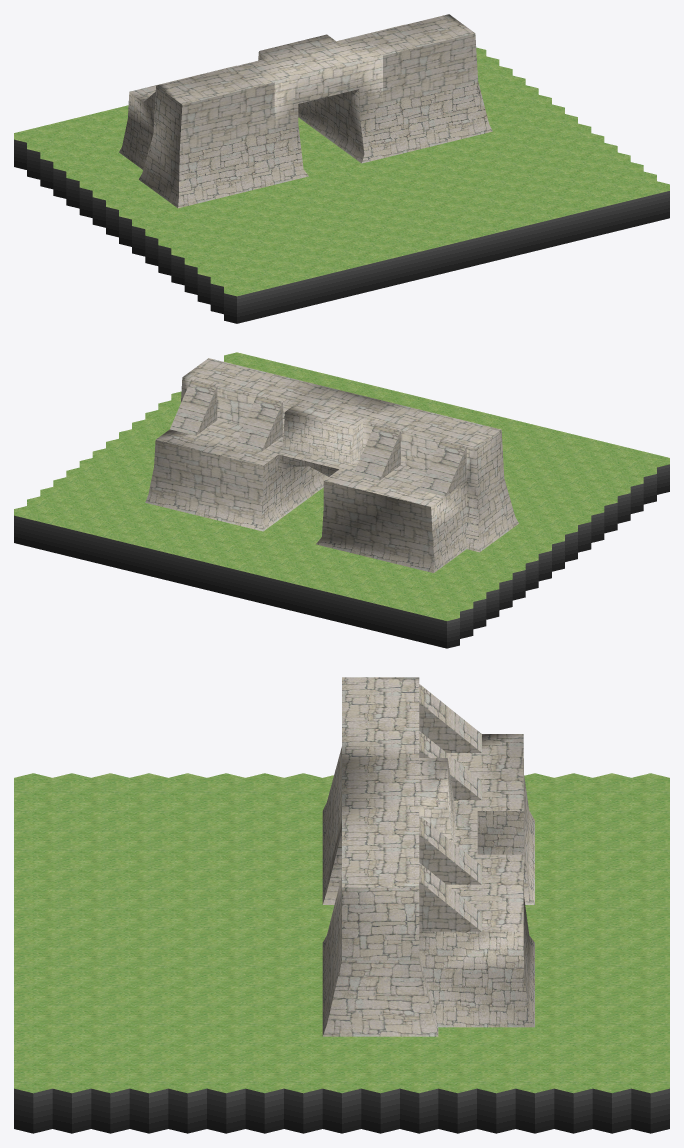
Rendered from Map.obj.
3 renders of one model, top to bottom at view 1: azimuth 30°, elevation 25°; view 2: azimuth 150°, elevation 25°; view 3: azimuth 270°, elevation 25°, orthographic. The views are drawn at different scales.
Visible parts, largest first — view 1: mesh_0_, mesh_2_, mesh_1_, mesh_3_; view 2: mesh_0_, mesh_2_, mesh_1_, mesh_3_; view 3: mesh_0_, mesh_2_, mesh_1_, mesh_3_.
Part boxes in pixels (x1,y1,x2,y2): mesh_0_: (14, 47, 669, 296); mesh_2_: (119, 14, 492, 208); mesh_1_: (14, 139, 669, 323); mesh_3_: (144, 86, 182, 153); mesh_0_: (14, 352, 669, 620); mesh_2_: (145, 358, 518, 572); mesh_1_: (14, 464, 669, 648); mesh_3_: (181, 377, 504, 497); mesh_0_: (14, 773, 669, 1093); mesh_2_: (322, 677, 534, 1036); mesh_1_: (14, 1088, 669, 1133); mesh_3_: (342, 703, 481, 960).
Bounding box in the file's own units: 340 × 90 × 294.
Materials: 4 (4 with a texture image).
